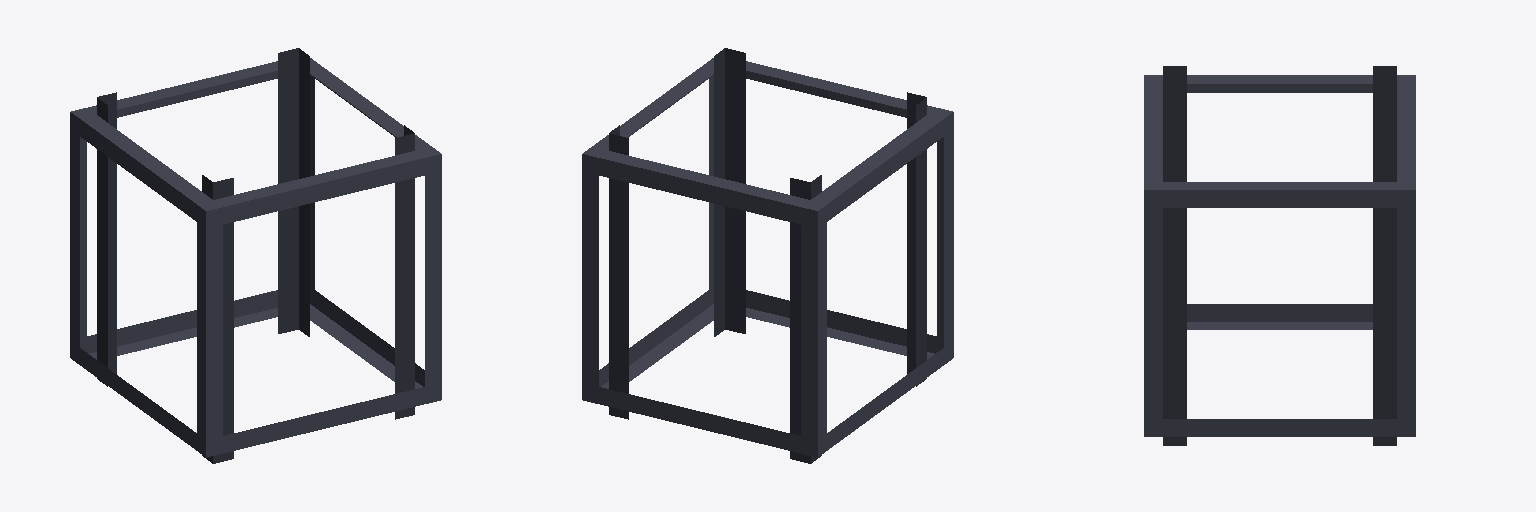
The picture shows the model from 3 angles: view 1: azimuth 30°, elevation 25°; view 2: azimuth 150°, elevation 25°; view 3: azimuth 270°, elevation 25°; orthographic projection.
Parts seen in each view (by area): view 1: cube; view 2: cube; view 3: cube.
Boxes of the visible parts, <box> form: cube: <box>70,48,441,463</box>; cube: <box>582,48,953,463</box>; cube: <box>1144,66,1415,445</box>.
Size of the model in its own units: 0.875 by 1 by 0.875.
1 materials, 1 textured.